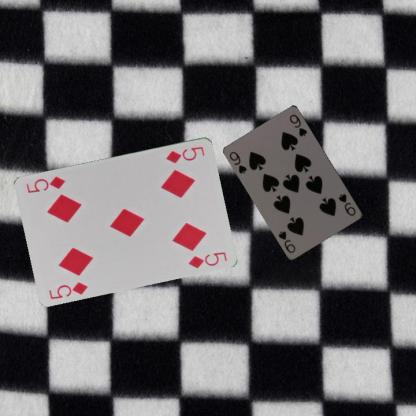5d: (47, 278, 89, 300), (164, 143, 206, 164)
9s: (227, 149, 249, 175), (336, 191, 357, 217)
